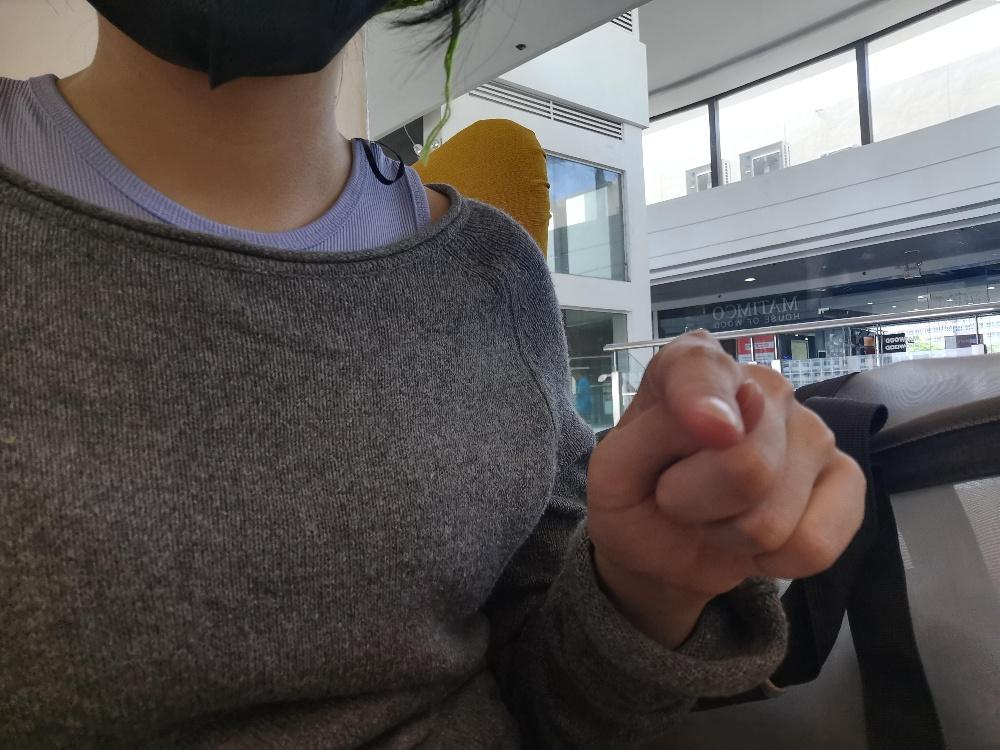z: (581, 325, 868, 595)
